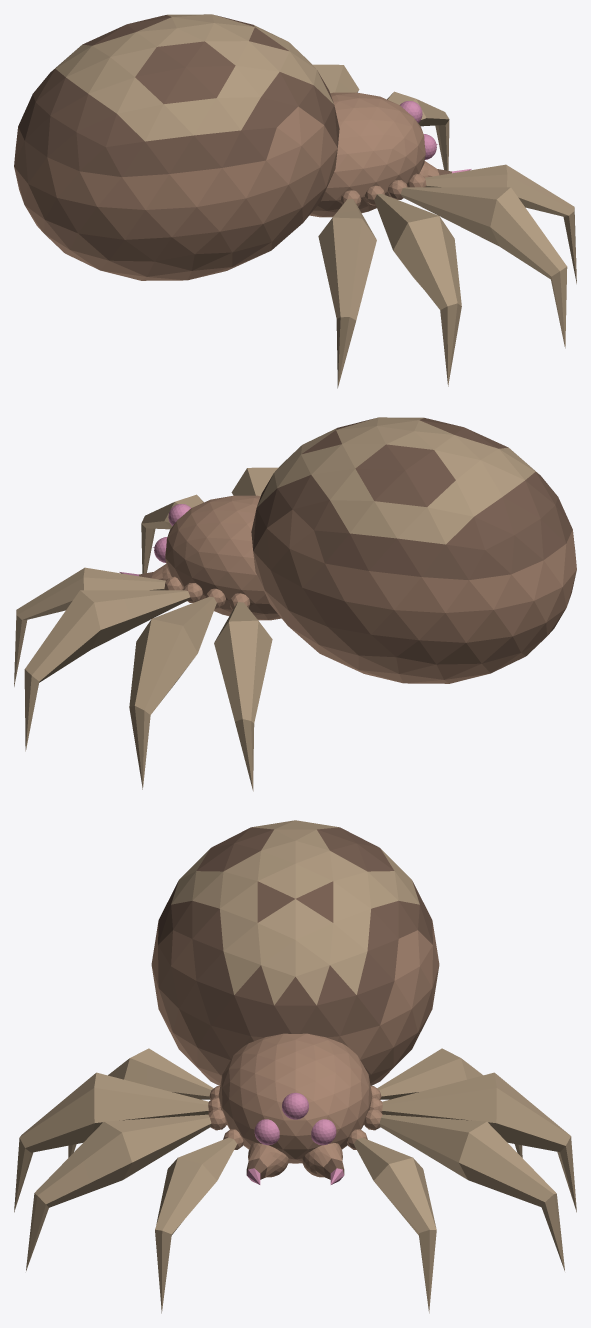
The model's file is pavuk.fbx.
The picture shows the model from 3 angles, top to bottom: view 1: azimuth 30°, elevation 25°; view 2: azimuth 150°, elevation 25°; view 3: azimuth 270°, elevation 25°; orthographic projection. The views are drawn at different scales.
Visible parts, largest first — view 1: Body, Leg06, Leg07, Leg08, Leg05, Leg04, Leg03; view 2: Body, Leg03, Leg02, Leg01, Leg04, Leg05, Leg06; view 3: Body, Leg06, Leg03, Leg07, Leg02, Leg04, Leg05, Leg08, Leg01, ZubLeft, ZubRight.
Boxes of the visible parts, x1,y1,x2,y2 form: Body: [14, 14, 436, 280]; Leg06: [388, 180, 567, 348]; Leg07: [365, 185, 461, 386]; Leg08: [318, 190, 376, 388]; Leg05: [407, 164, 576, 283]; Leg04: [387, 91, 449, 170]; Leg03: [312, 64, 359, 93]; Body: [154, 417, 576, 683]; Leg03: [24, 583, 202, 751]; Leg02: [129, 588, 225, 789]; Leg01: [214, 593, 272, 791]; Leg04: [14, 567, 183, 686]; Leg05: [141, 494, 203, 573]; Leg06: [231, 467, 278, 496]; Body: [151, 820, 439, 1163]; Leg06: [26, 1109, 226, 1270]; Leg03: [364, 1109, 564, 1270]; Leg07: [14, 1072, 220, 1212]; Leg02: [370, 1072, 576, 1212]; Leg04: [347, 1129, 436, 1313]; Leg05: [155, 1129, 243, 1313]; Leg08: [68, 1048, 220, 1157]; Leg01: [370, 1048, 522, 1157]; ZubLeft: [302, 1143, 344, 1184]; ZubRight: [246, 1143, 288, 1184].
Bounding box in the file's own units: 425 × 245 × 412.
